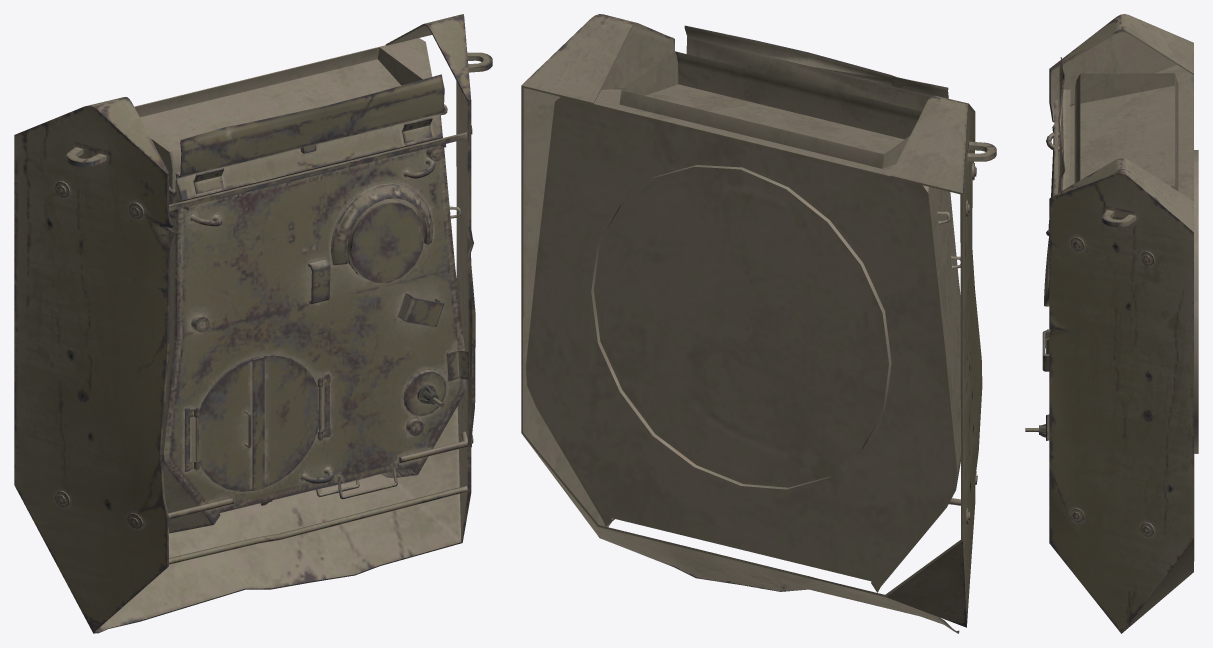
Rendered from Turret_01.glb.
3 views of the same model, side by side, from view 1: azimuth 30°, elevation 25°; view 2: azimuth 150°, elevation 25°; view 3: azimuth 270°, elevation 25° (orthographic). The views are drawn at different scales.
Parts seen in each view (by area): view 1: set_0_group_0; view 2: set_0_group_0; view 3: set_0_group_0.
Part boxes in pixels (bbox=[...]): set_0_group_0: bbox=[14, 14, 492, 633]; set_0_group_0: bbox=[521, 14, 996, 633]; set_0_group_0: bbox=[1025, 14, 1198, 633].
Size of the model in its own units: 2.62 by 3.03 by 1.01.
Materials: 1 (1 with a texture image).
